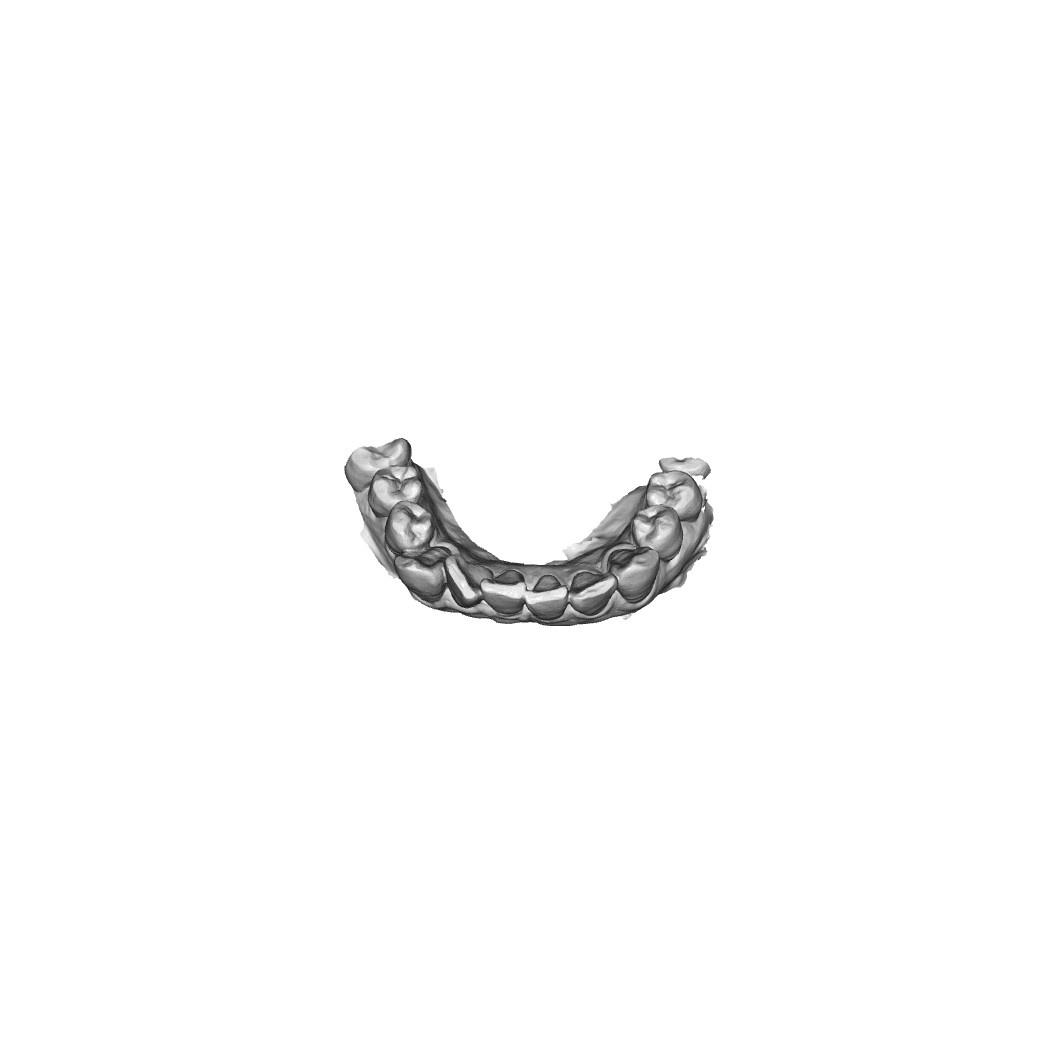canine: (392, 546, 452, 603), (607, 545, 661, 604)
incisor: (443, 554, 495, 609), (568, 571, 619, 617), (479, 569, 527, 617), (524, 574, 569, 621)
premolar: (645, 469, 704, 523), (630, 504, 684, 562), (367, 464, 423, 519), (383, 500, 435, 556)
